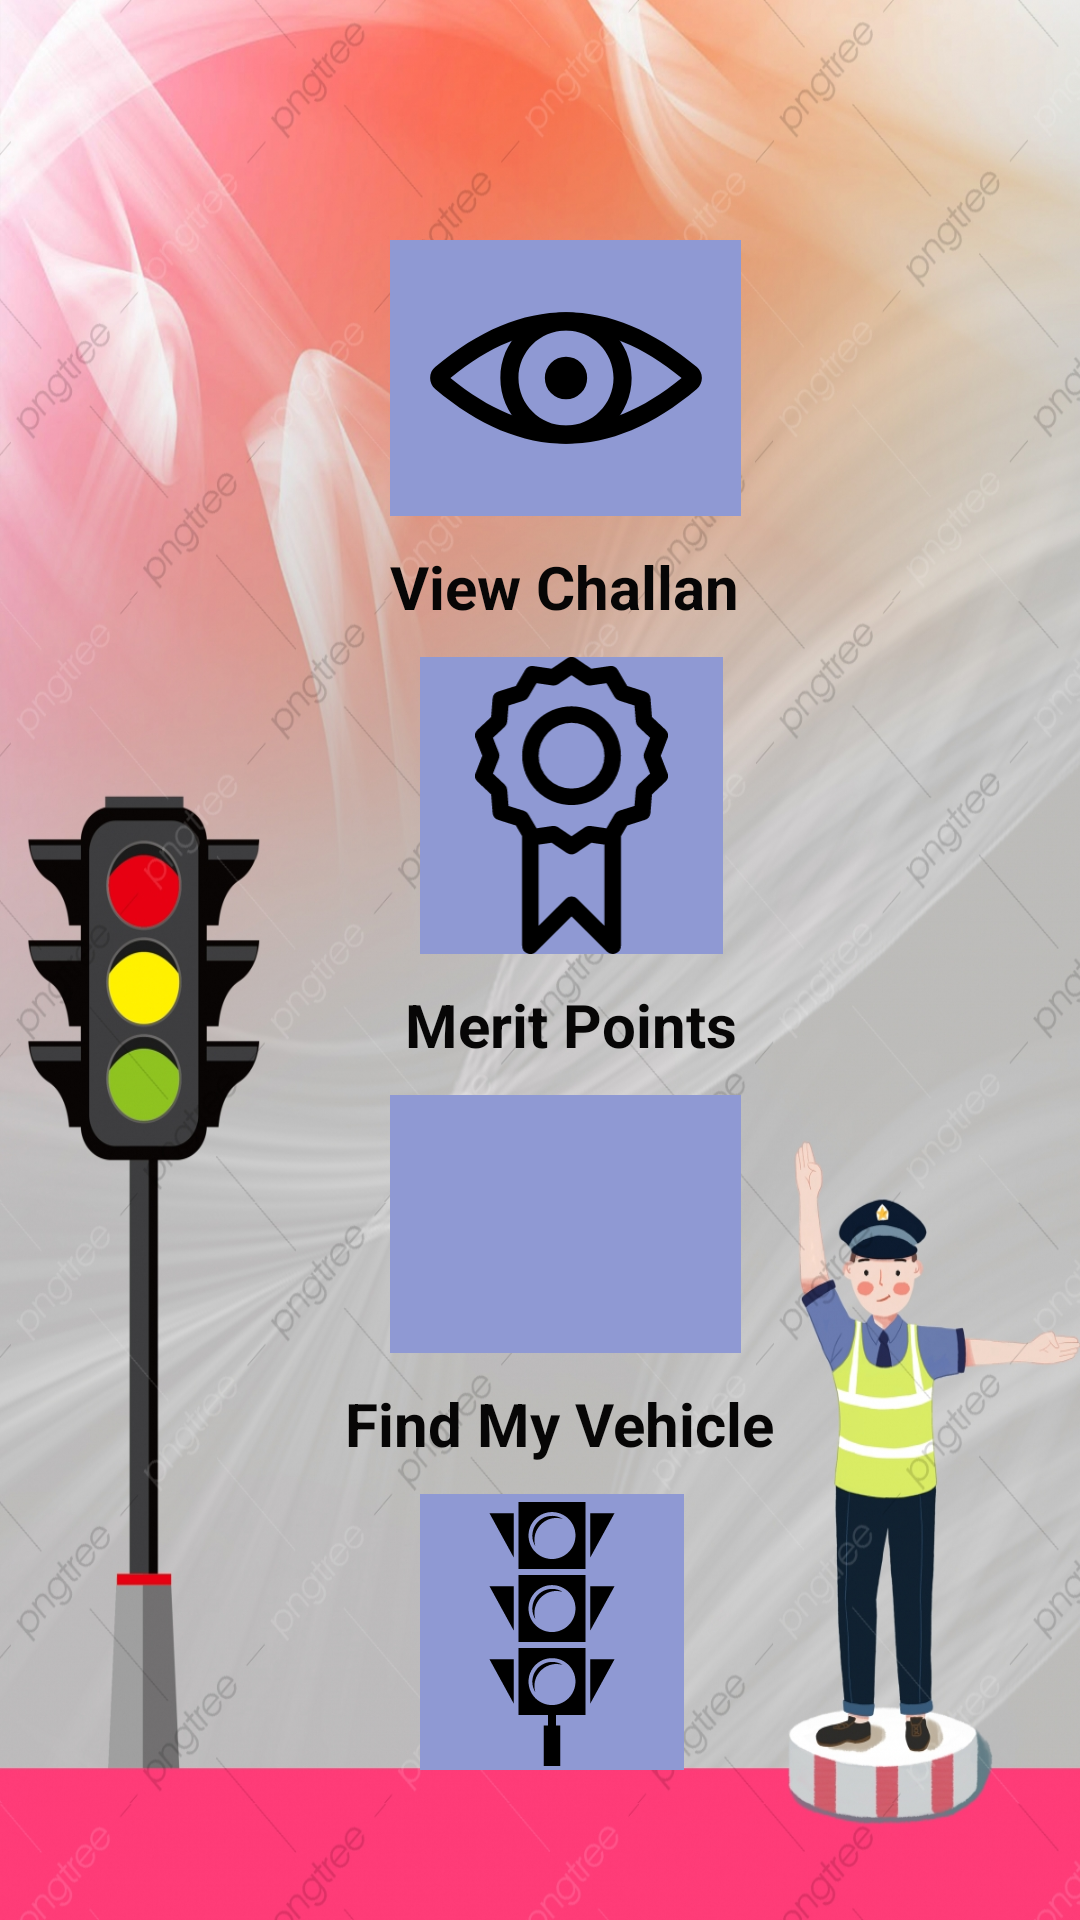

Screen size 1080px x 1920px. Icon name, then its center in pixels as [x,y]:
reward psokvd: [571,805]
traffic: [552,1632]
